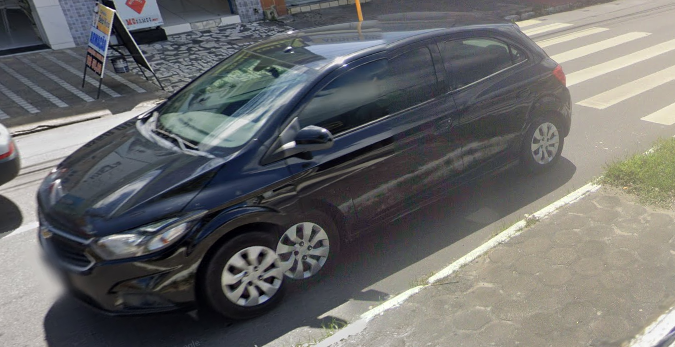car: (42, 15, 575, 306)
